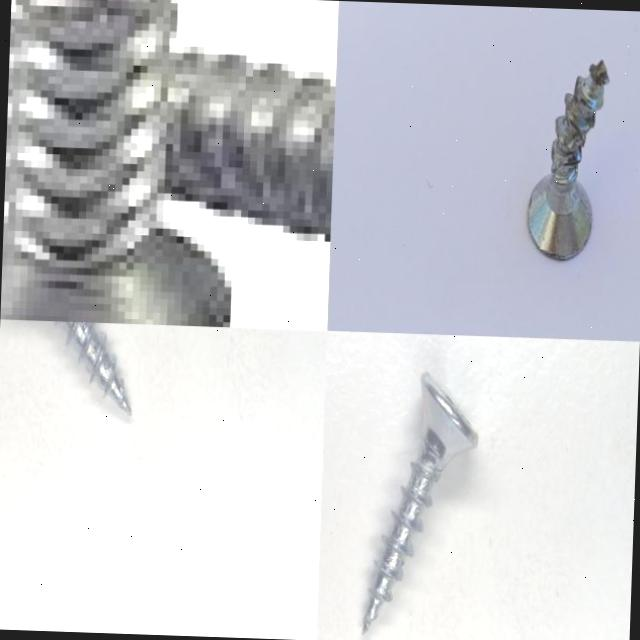Screw: (0, 0, 231, 327), (362, 371, 478, 632), (527, 58, 609, 259), (54, 321, 131, 414)
